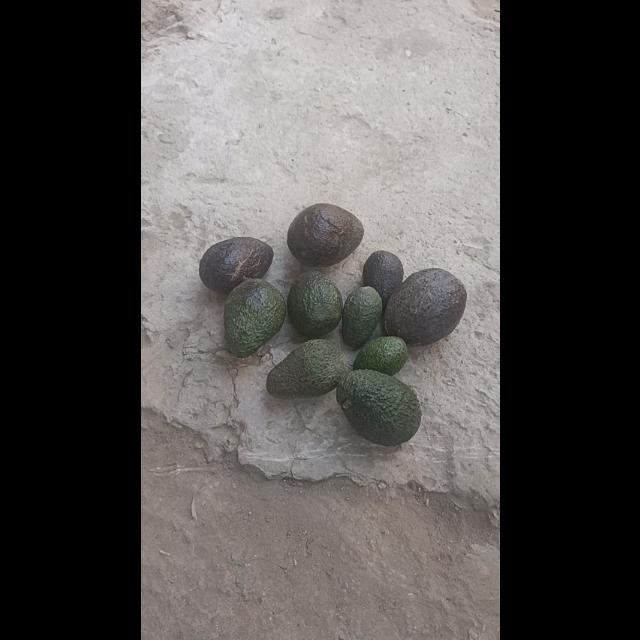Primera: (384, 267, 466, 345), (338, 368, 420, 444), (221, 278, 285, 356), (285, 202, 363, 266), (198, 235, 272, 292)
Segunda: (266, 339, 346, 397), (285, 270, 343, 336)
Tercera: (340, 286, 382, 348), (361, 250, 404, 308), (351, 336, 407, 376)
